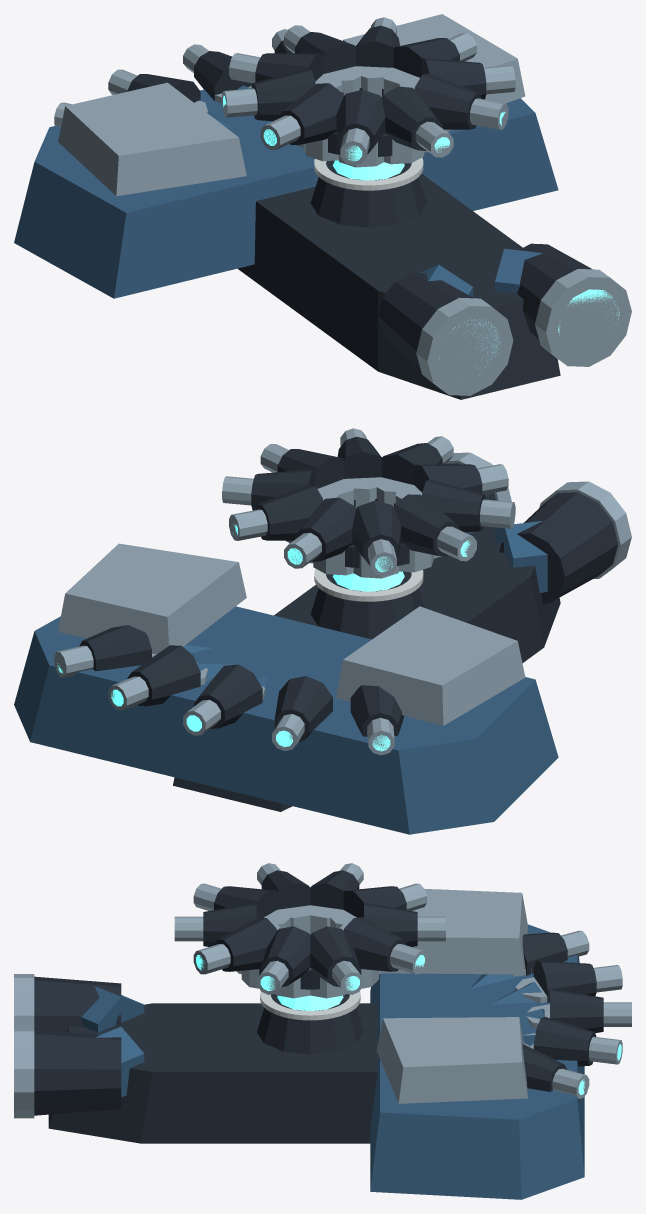
The model's file is miniboss.glb.
3 renders of one model, top to bottom at view 1: azimuth 30°, elevation 25°; view 2: azimuth 150°, elevation 25°; view 3: azimuth 270°, elevation 25°, orthographic. The views are drawn at different scales.
Visible parts, largest first — view 1: miniboss / Chassis, miniboss / Armor, miniboss / Titanium, ring_rotor / Chassis, ring_rotor / Titanium, miniboss / Energy, miniboss / Identification, ring_rotor / Energy; view 2: miniboss / Armor, miniboss / Titanium, miniboss / Chassis, ring_rotor / Chassis, ring_rotor / Titanium, miniboss / Energy, miniboss / Identification; view 3: miniboss / Chassis, miniboss / Armor, miniboss / Titanium, ring_rotor / Chassis, ring_rotor / Titanium, miniboss / Identification, miniboss / Energy, ring_rotor / Energy.
Part boxes in pixels (<box>): miniboss / Chassis: <box>127,40,592,399</box>; miniboss / Armor: <box>14,85,558,298</box>; miniboss / Titanium: <box>54,14,631,395</box>; ring_rotor / Chassis: <box>251,25,486,156</box>; ring_rotor / Titanium: <box>222,17,515,167</box>; miniboss / Energy: <box>333,160,619,367</box>; miniboss / Identification: <box>314,157,423,190</box>; ring_rotor / Energy: <box>223,95,505,161</box>; miniboss / Armor: <box>14,521,558,834</box>; miniboss / Titanium: <box>54,452,631,755</box>; miniboss / Chassis: <box>79,463,618,811</box>; ring_rotor / Chassis: <box>251,436,485,567</box>; ring_rotor / Titanium: <box>222,428,515,578</box>; miniboss / Energy: <box>57,571,404,751</box>; miniboss / Identification: <box>314,568,423,601</box>; miniboss / Chassis: <box>34,932,603,1143</box>; miniboss / Armor: <box>81,924,584,1199</box>; miniboss / Titanium: <box>14,889,631,1118</box>; ring_rotor / Chassis: <box>203,870,417,989</box>; ring_rotor / Titanium: <box>174,863,445,998</box>; miniboss / Identification: <box>260,991,360,1020</box>; miniboss / Energy: <box>277,995,621,1094</box>; ring_rotor / Energy: <box>196,954,424,991</box>.
Size of the model in its own units: 1.62 by 0.705 by 1.96.
